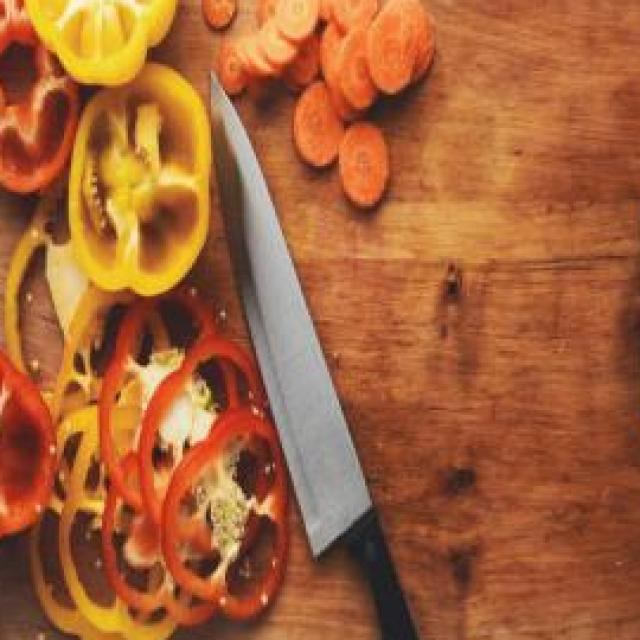knife: (207, 68, 432, 640)
